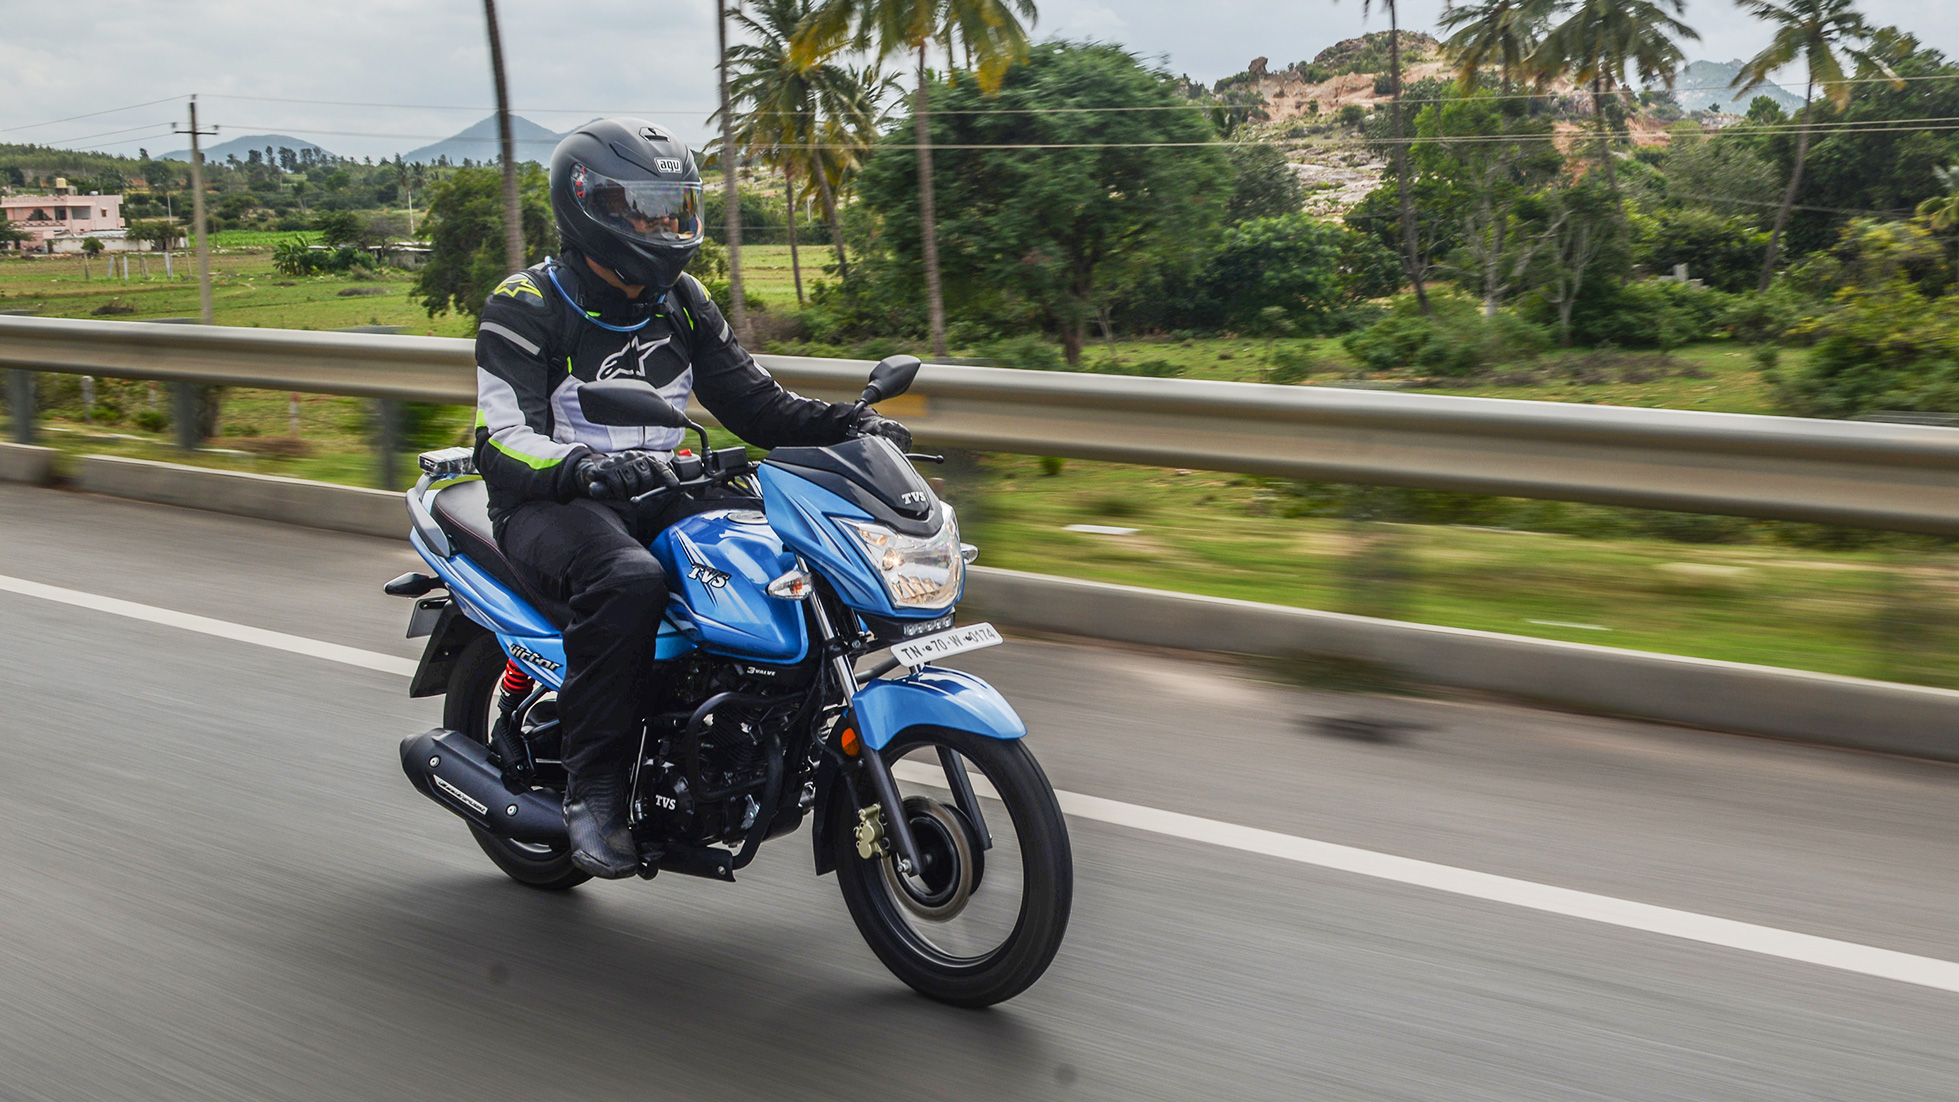helmet: (544, 116, 725, 297)
